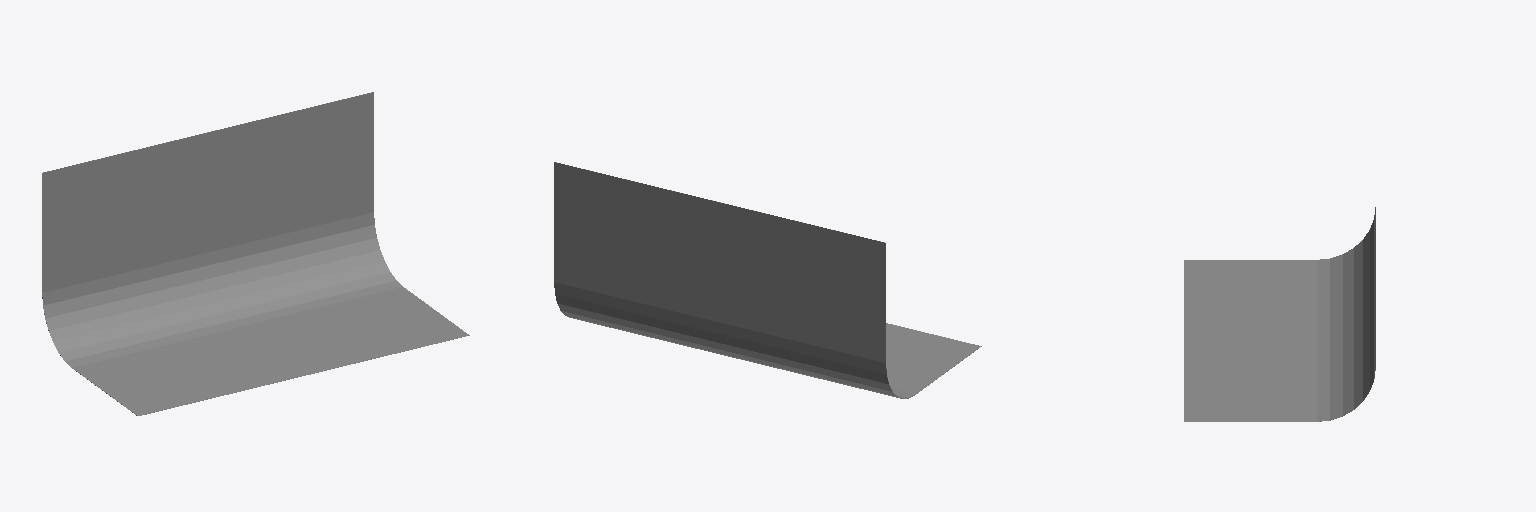
File: backdrop.obj
3 views of the same model, side by side, from view 1: azimuth 30°, elevation 25°; view 2: azimuth 150°, elevation 25°; view 3: azimuth 270°, elevation 25° (orthographic).
Visible parts, largest first — view 1: Rectangle001; view 2: Rectangle001; view 3: Rectangle001.
Part boxes in pixels (bbox=[...]): Rectangle001: bbox=[42, 92, 469, 415]; Rectangle001: bbox=[554, 162, 981, 398]; Rectangle001: bbox=[1184, 207, 1375, 421].
Bounding box in the file's own units: 240 × 122 × 120.